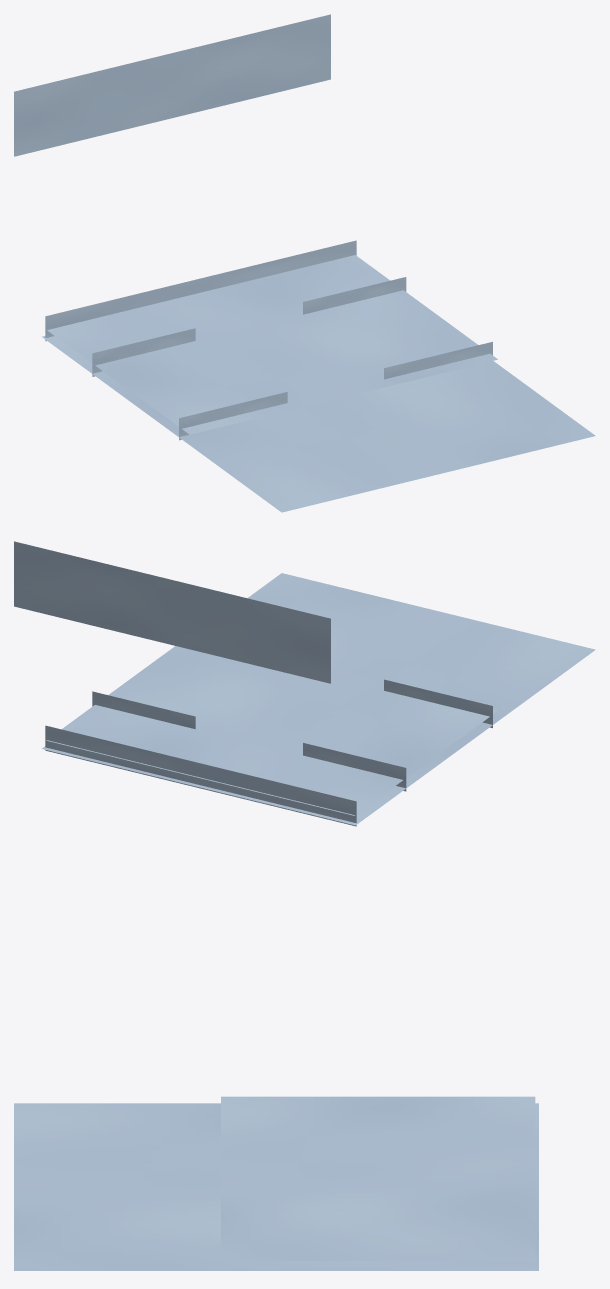
The model's file is etip_nevoa.obj.
The picture shows the model from 3 angles, top to bottom: view 1: azimuth 30°, elevation 25°; view 2: azimuth 150°, elevation 25°; view 3: azimuth 270°, elevation 25°; orthographic projection. The views are drawn at different scales.
Parts seen in each view (by area): view 1: PS2_Nevoa_Corredor_Central, PS2_Nevoa_Tapete_Patio, PS2_Nevoa_Alta_Torre, PS2_Nevoa_Portao_Frente, PS2_Nevoa_Guarita_Patio, PS2_Nevoa_Entrada_ZonaB; view 2: PS2_Nevoa_Corredor_Central, PS2_Nevoa_Tapete_Patio, PS2_Nevoa_Alta_Torre, PS2_Nevoa_Portao_Frente, PS2_Nevoa_Guarita_Patio, PS2_Nevoa_Entrada_ZonaB; view 3: PS2_Nevoa_Corredor_Central, PS2_Nevoa_Tapete_Patio.
Boxes of the visible parts, left/top/right/bottom form: PS2_Nevoa_Corredor_Central: left=47, top=255, right=497, bottom=434; PS2_Nevoa_Tapete_Patio: left=42, top=336, right=595, bottom=512; PS2_Nevoa_Alta_Torre: left=14, top=14, right=330, bottom=156; PS2_Nevoa_Portao_Frente: left=45, top=240, right=356, bottom=341; PS2_Nevoa_Guarita_Patio: left=92, top=277, right=406, bottom=376; PS2_Nevoa_Entrada_ZonaB: left=179, top=341, right=492, bottom=440; PS2_Nevoa_Corredor_Central: left=46, top=646, right=497, bottom=815; PS2_Nevoa_Tapete_Patio: left=42, top=573, right=595, bottom=825; PS2_Nevoa_Alta_Torre: left=14, top=541, right=330, bottom=683; PS2_Nevoa_Portao_Frente: left=45, top=725, right=356, bottom=826; PS2_Nevoa_Guarita_Patio: left=92, top=691, right=406, bottom=791; PS2_Nevoa_Entrada_ZonaB: left=384, top=679, right=492, bottom=728; PS2_Nevoa_Corredor_Central: left=221, top=1096, right=535, bottom=1260; PS2_Nevoa_Tapete_Patio: left=14, top=1103, right=538, bottom=1270.
Size of the model in its own units: 11.2 by 7.75 by 16.3.
Materials: 1 (1 with a texture image).
